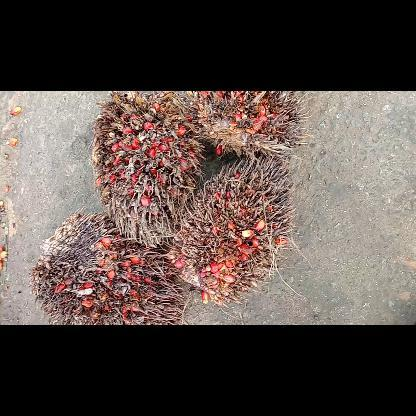Terlalu masak: (165, 154, 299, 314), (88, 90, 212, 250), (28, 206, 190, 324), (178, 91, 312, 165)
